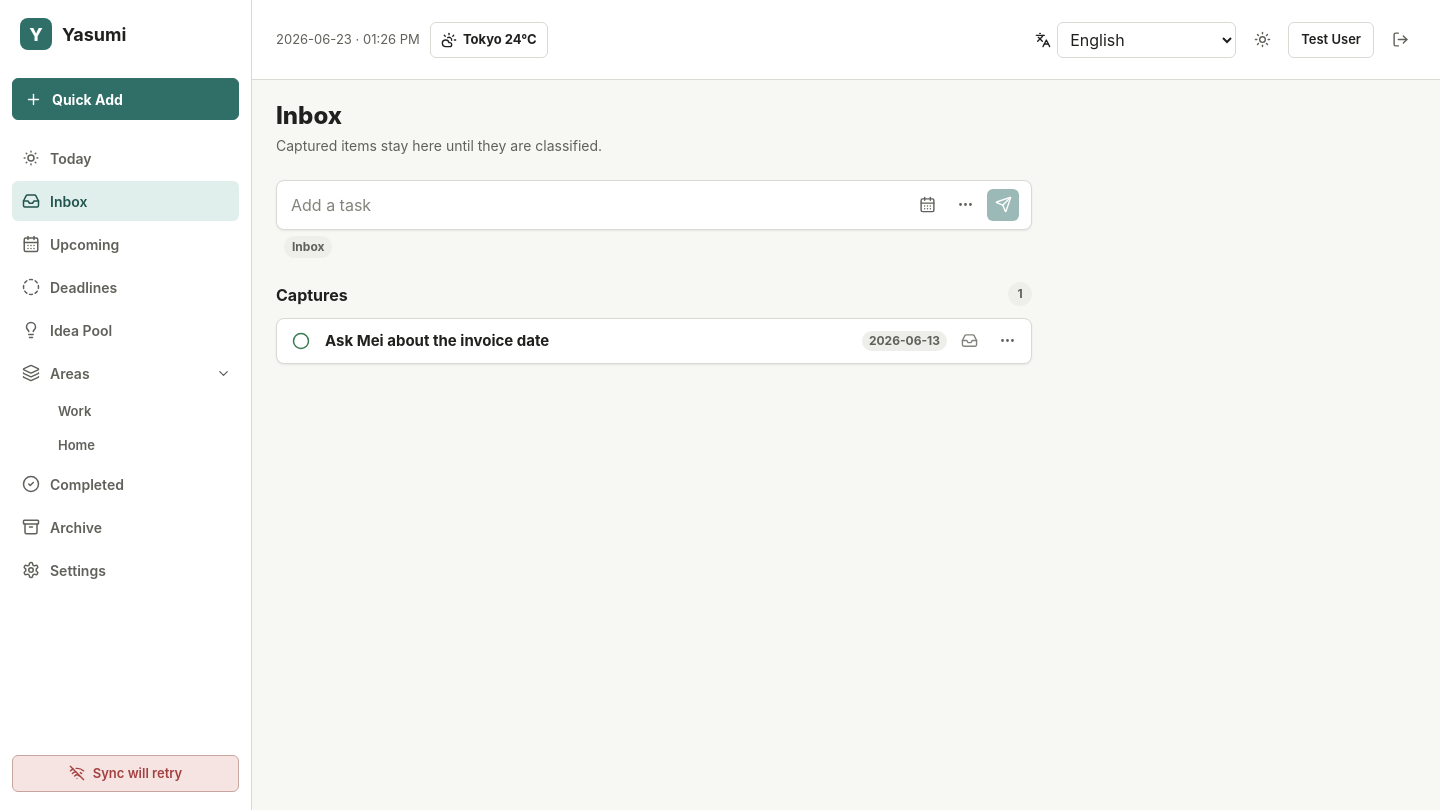
Scenario: phase 04 pages and action surfaces › allows Inbox completion while detail stays editable
The width and height of the screenshot is (1440, 810).
Expected: the heading "Inbox" is shown, [276,101,342,130]
Click the text "Ask Mei about the invoice date" at [437, 341], box [325,331,549,351]
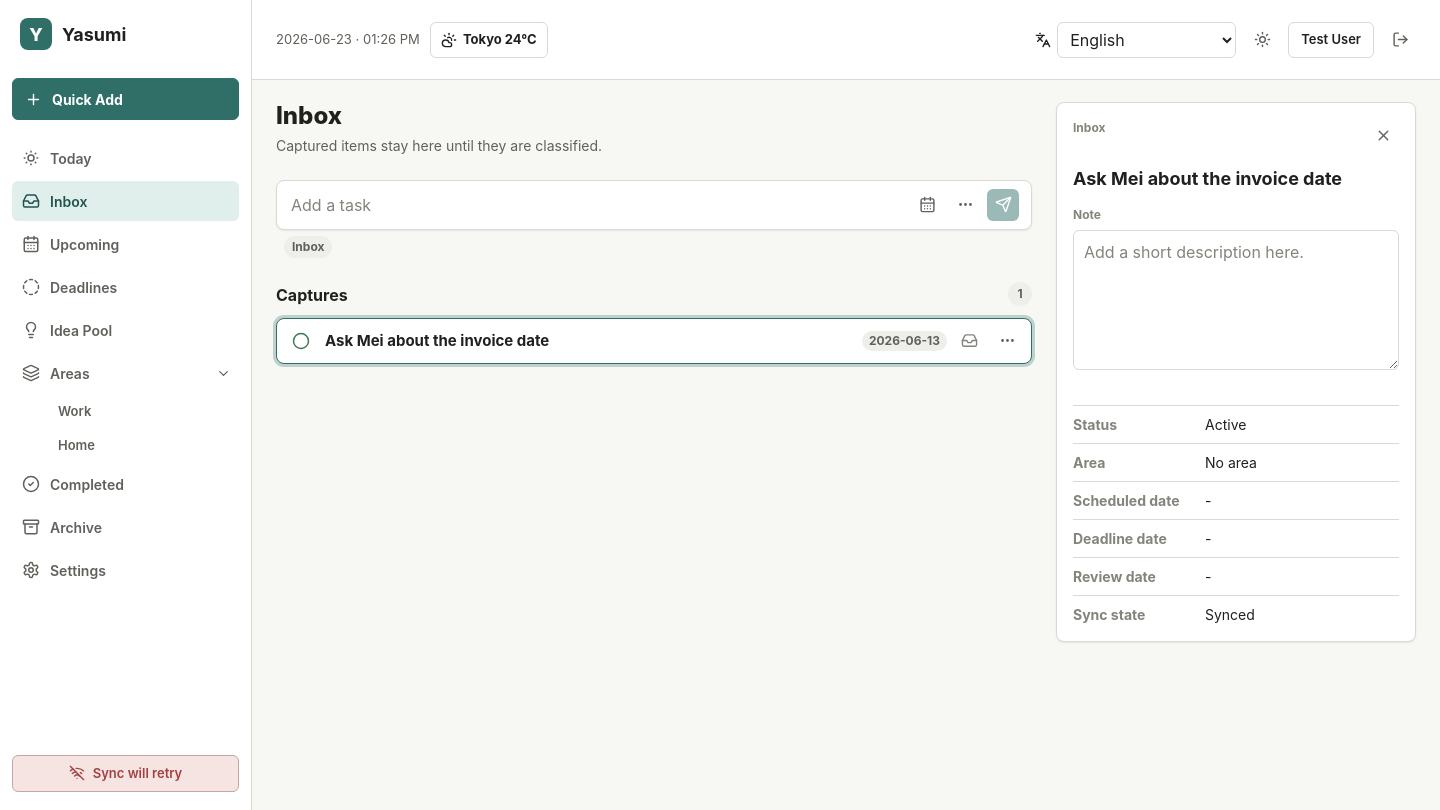
Result: the heading "Ask Mei about the invoice date" is shown at [1073,168,1342,189]
Result: the text box with placeholder "Add a short description here." is shown at [1073,230,1399,370]
Click the button named "Complete" at [301, 341], box [285,325,317,357]
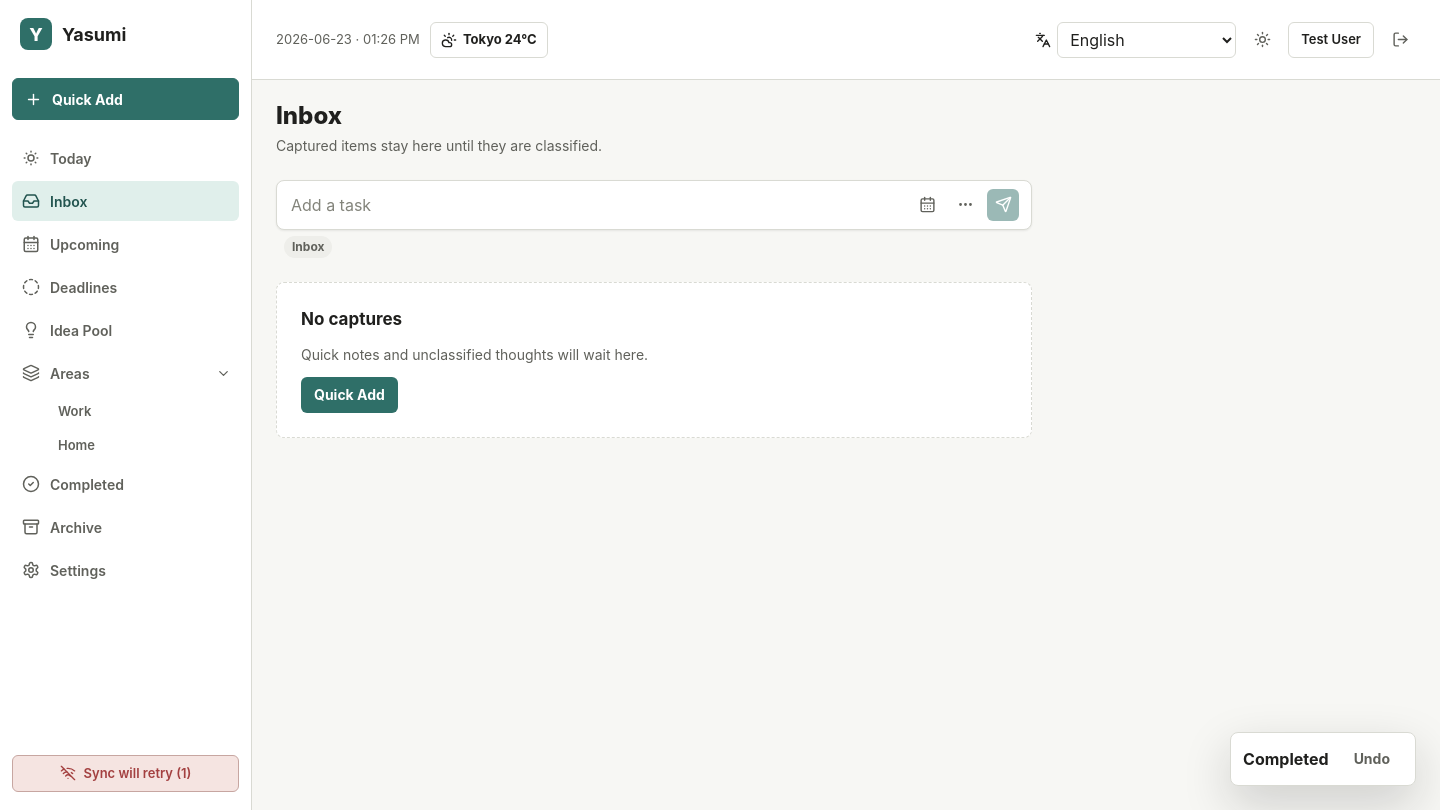
Result: the button "Undo" is shown at [1341,741,1403,777]
